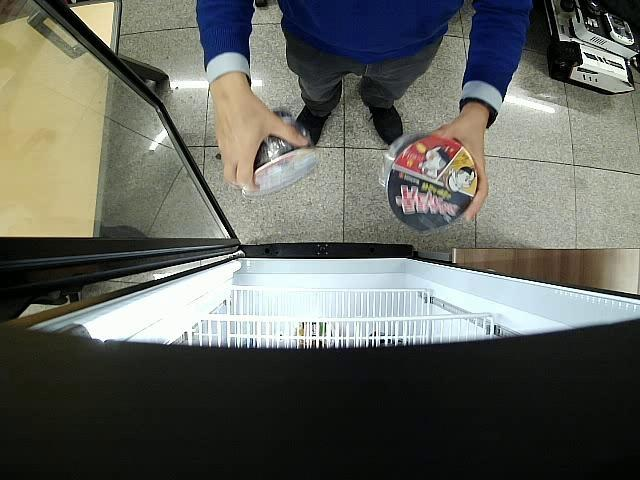07_buldak_L: (378, 132, 478, 232), (242, 110, 320, 198)
